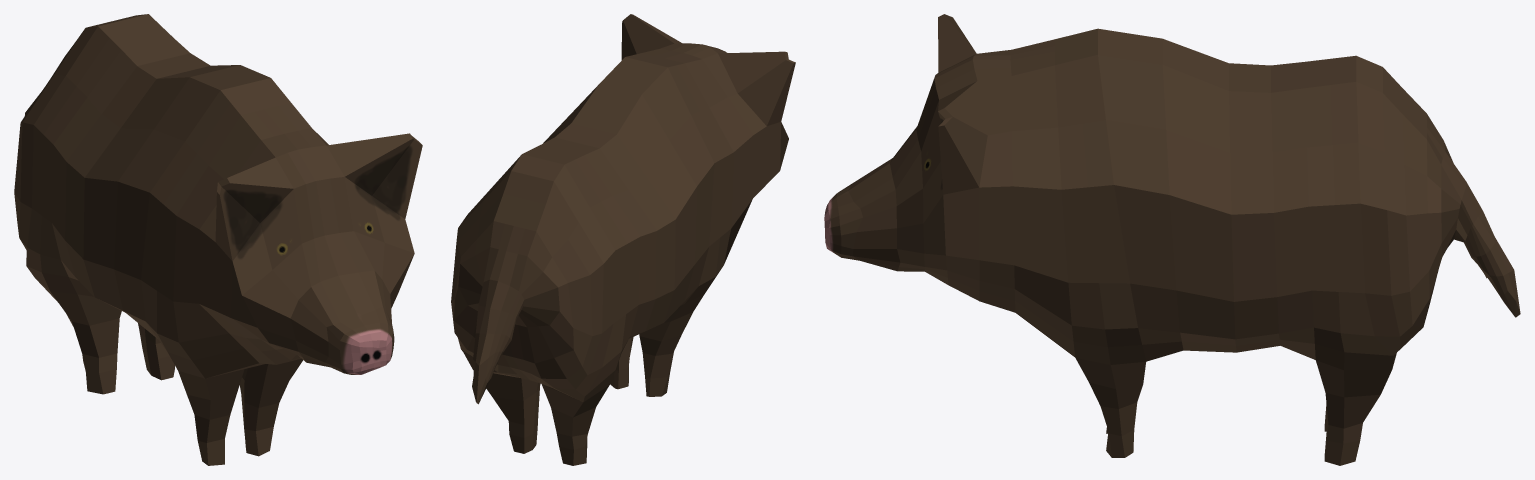
The model's file is Jabali.fbx.
The picture shows the model from 3 angles, left to right: view 1: azimuth 30°, elevation 25°; view 2: azimuth 150°, elevation 25°; view 3: azimuth 270°, elevation 25°; orthographic projection. The views are drawn at different scales.
Visible parts, largest first — view 1: Jabali; view 2: Jabali; view 3: Jabali.
Part boxes in pixels (<box>): Jabali: <box>14,14,422,465</box>; Jabali: <box>451,14,795,465</box>; Jabali: <box>824,14,1520,465</box>.
Bounding box in the file's own units: 57.01 × 102 × 160.
